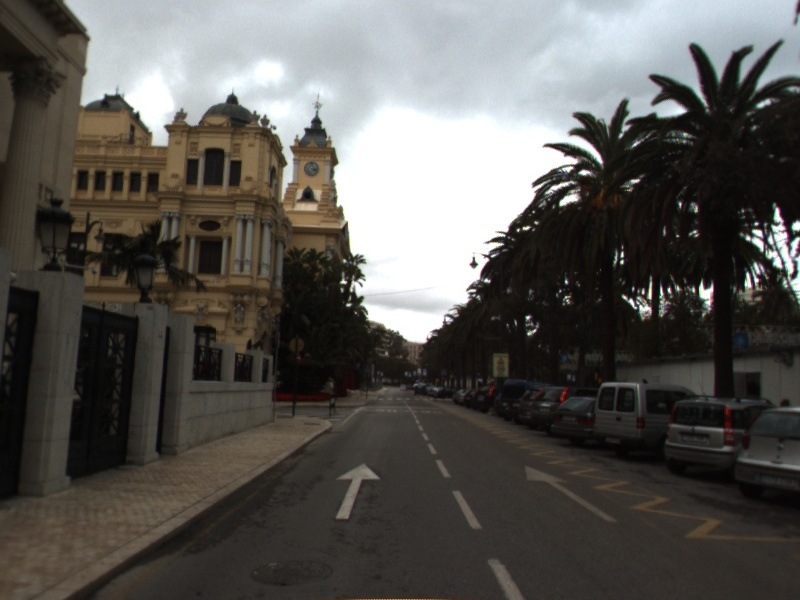STRAIGHT: (523, 463, 619, 524), (333, 461, 383, 521)
